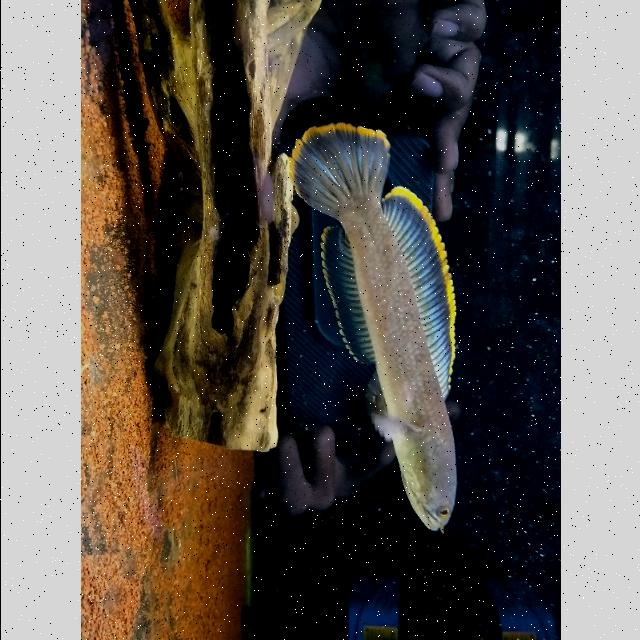Mulut: (410, 492, 452, 544)
Sirip Anal: (318, 208, 374, 378)
Sirip Dada: (351, 387, 424, 465)
Sirip Ekor: (288, 122, 388, 232)
Sirip Punggung: (372, 176, 462, 408)
